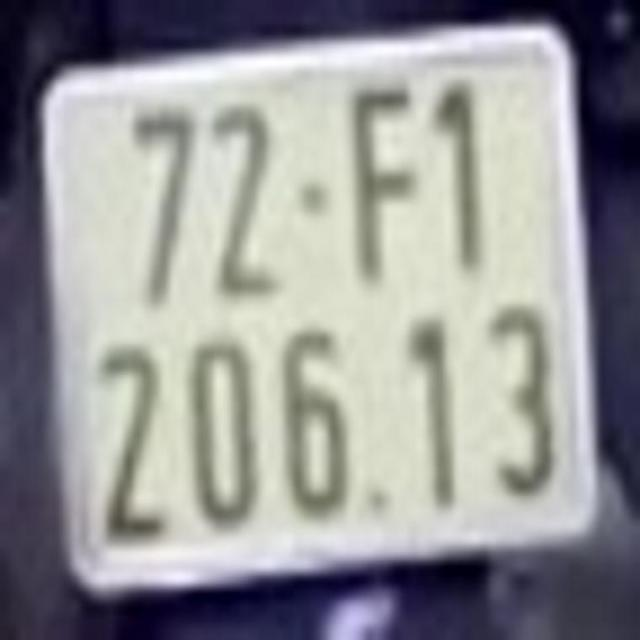0: (188, 330, 255, 521)
1: (408, 319, 460, 506), (436, 91, 488, 264)
2: (90, 337, 173, 545), (207, 107, 280, 296)
3: (478, 303, 561, 496)
6: (273, 318, 347, 508)
7: (131, 103, 192, 314)
F: (348, 84, 424, 284)
